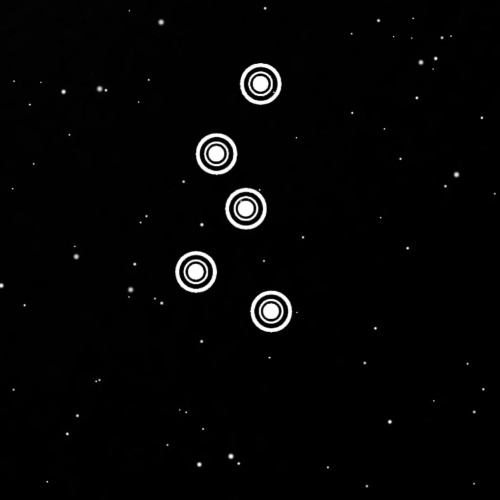cassiopeia: (171, 47, 302, 342)
